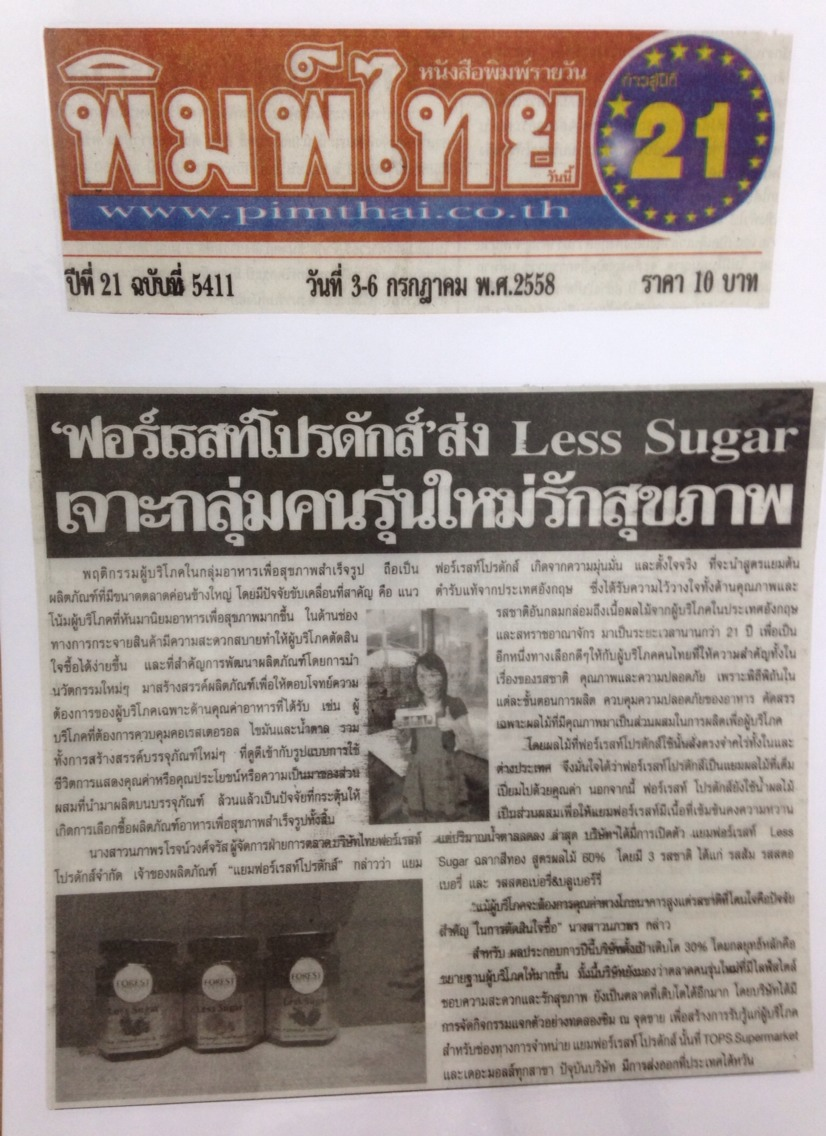news_paper: (8, 8, 826, 1136)
